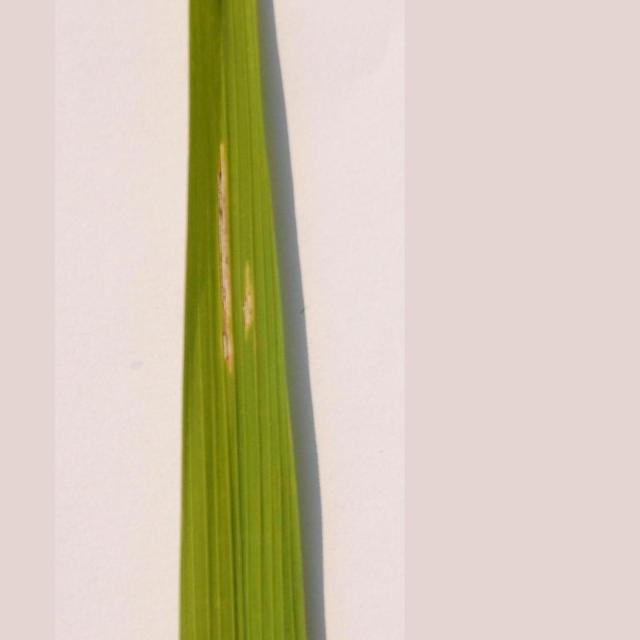Bacterial leaf blight: (196, 122, 238, 384), (238, 250, 264, 358)
